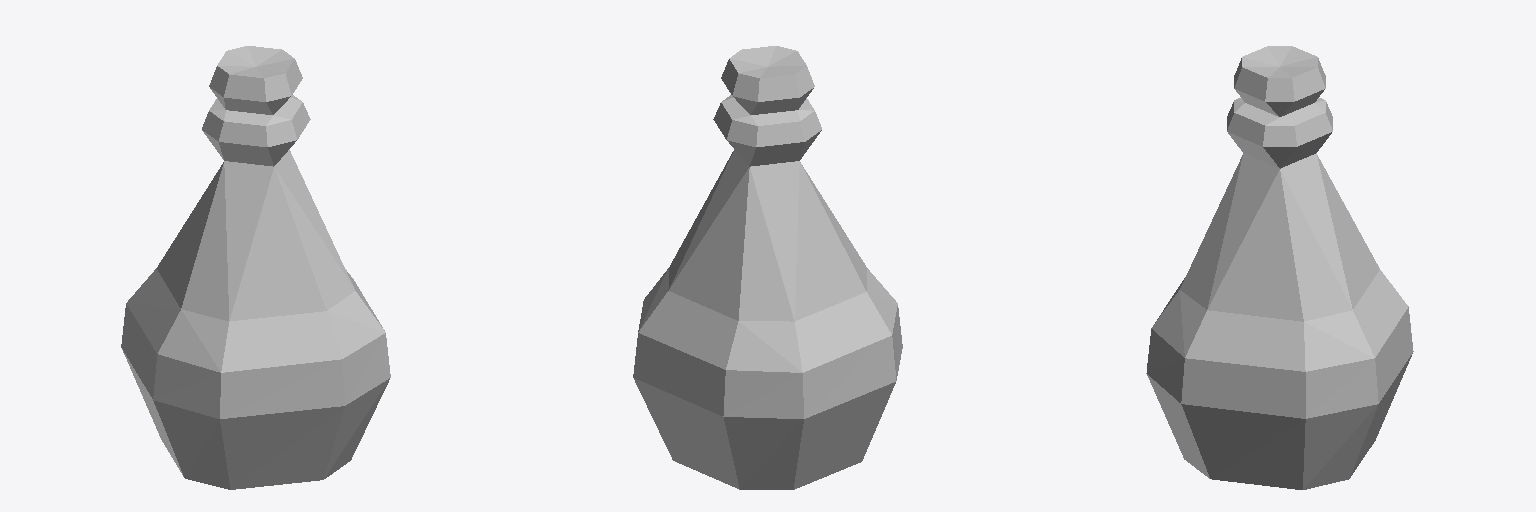
Rendered from bottle_B_brown.obj.
The picture shows the model from 3 angles: view 1: azimuth 30°, elevation 25°; view 2: azimuth 150°, elevation 25°; view 3: azimuth 270°, elevation 25°; orthographic projection.
Visible parts, largest first — view 1: bottle_B_brown; view 2: bottle_B_brown; view 3: bottle_B_brown.
Boxes of the visible parts, <box> form: bottle_B_brown: <box>121,46,390,489</box>; bottle_B_brown: <box>633,46,902,489</box>; bottle_B_brown: <box>1146,46,1413,489</box>.
Bounding box in the file's own units: 0.5528 × 0.8857 × 0.5528.